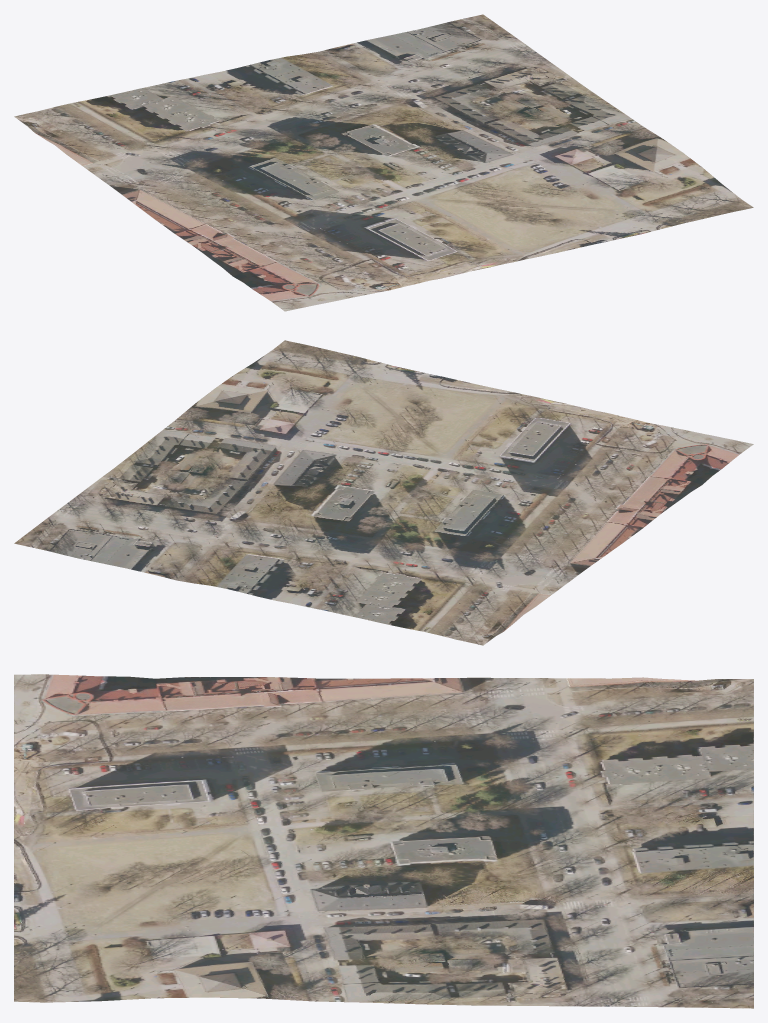
Rendered from CM_Terrain_24486158_6821022.fbx.
3 renders of one model, top to bottom at view 1: azimuth 30°, elevation 25°; view 2: azimuth 150°, elevation 25°; view 3: azimuth 270°, elevation 25°, orthographic. The views are drawn at different scales.
Visible parts, largest first — view 1: CM_Terrain_24486158_6821022_LOD0; view 2: CM_Terrain_24486158_6821022_LOD0; view 3: CM_Terrain_24486158_6821022_LOD0.
Part boxes in pixels (bbox=[...]): CM_Terrain_24486158_6821022_LOD0: bbox=[14, 14, 753, 311]; CM_Terrain_24486158_6821022_LOD0: bbox=[14, 340, 753, 645]; CM_Terrain_24486158_6821022_LOD0: bbox=[14, 674, 753, 1008].
Size of what is drawn, in the model's own units: 205 by 6.52 by 205.
